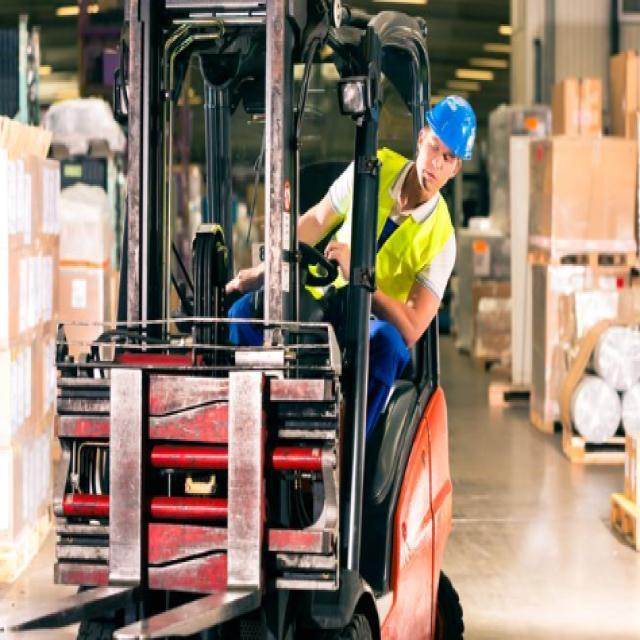hard_hat: (406, 97, 478, 213)
vest: (300, 147, 456, 331)
